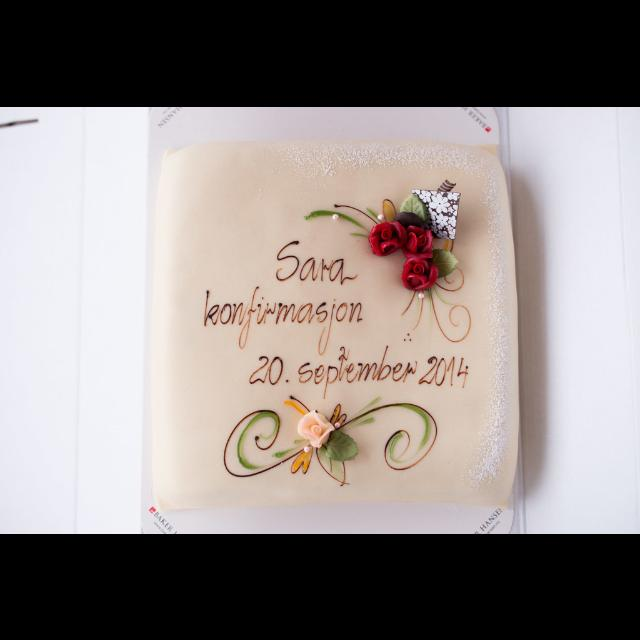Flower: (286, 408, 350, 464), (370, 214, 402, 256), (407, 224, 438, 262), (404, 254, 436, 288)
